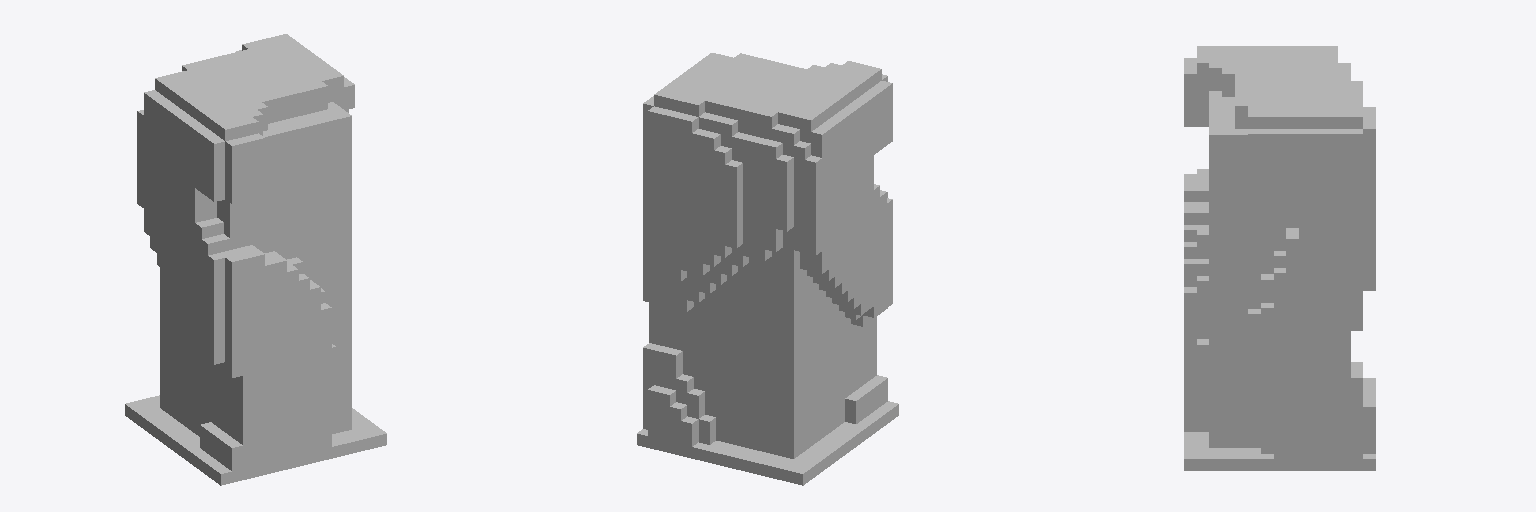
File: Cave Wall test 3.obj
The picture shows the model from 3 angles: view 1: azimuth 30°, elevation 25°; view 2: azimuth 150°, elevation 25°; view 3: azimuth 270°, elevation 25°; orthographic projection.
Visible parts, largest first — view 1: object 1; view 2: object 1; view 3: object 1.
Boxes of the visible parts, x1=… form: object 1: x1=125, y1=34, x2=386, y2=485; object 1: x1=637, y1=53, x2=898, y2=485; object 1: x1=1184, y1=46, x2=1375, y2=470.
Size of the model in its own units: 1.5 by 3 by 1.5.